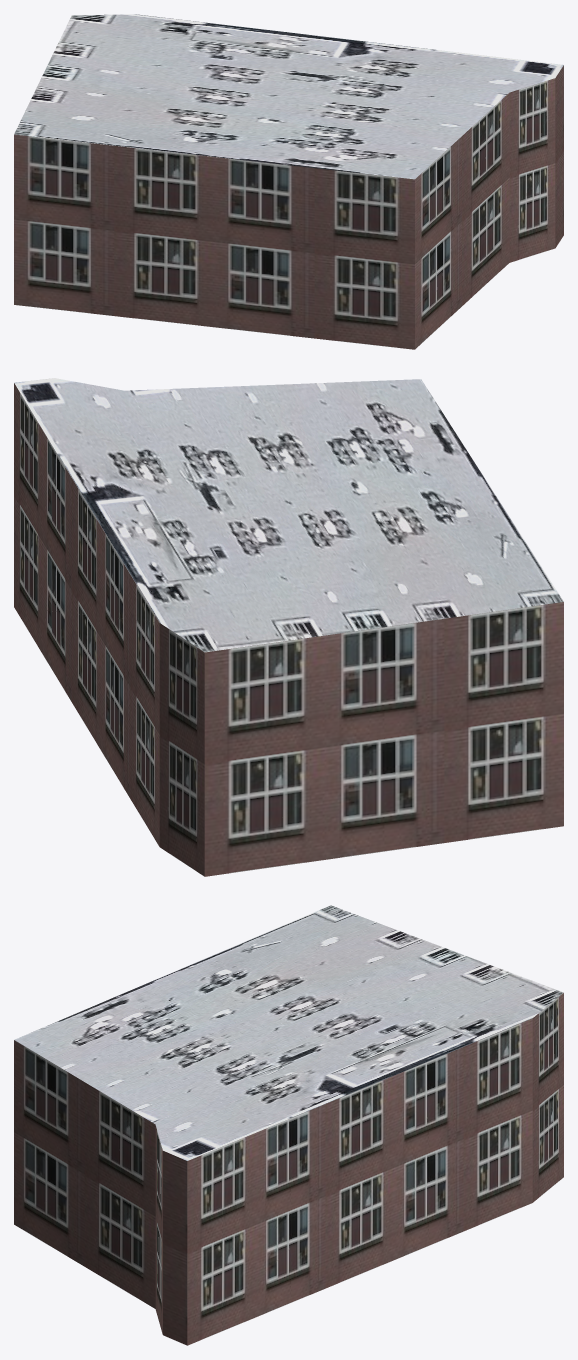
The model's file is ResTex__5318.fbx.
The picture shows the model from 3 angles, top to bottom: view 1: azimuth 30°, elevation 25°; view 2: azimuth 150°, elevation 25°; view 3: azimuth 270°, elevation 25°; orthographic projection. The views are drawn at different scales.
Visible parts, largest first — view 1: CityEngineMaterial_12_m, CityEngineMaterial_8_m; view 2: CityEngineMaterial_12_m, CityEngineMaterial_8_m; view 3: CityEngineMaterial_12_m, CityEngineMaterial_8_m.
Boxes of the visible parts, <box> form: CityEngineMaterial_12_m: <box>14,65,563,349</box>; CityEngineMaterial_8_m: <box>14,14,563,179</box>; CityEngineMaterial_12_m: <box>14,383,563,876</box>; CityEngineMaterial_8_m: <box>14,378,563,652</box>; CityEngineMaterial_12_m: <box>14,993,563,1345</box>; CityEngineMaterial_8_m: <box>14,905,563,1160</box>.
Bounding box in the file's own units: 17.83 × 6 × 16.2.
Materials: 2 (2 with a texture image).
